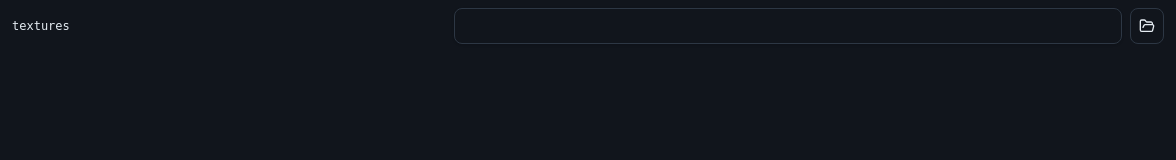
Test: FieldRow path picker › reflects a picked path in both the input and the config store
# Open the picker, then invoke the onSelect it registered (what PathPicker does on pick).
Click the button named "browse for textures": {"x": 1147, "y": 26} [1130,8,1164,44]
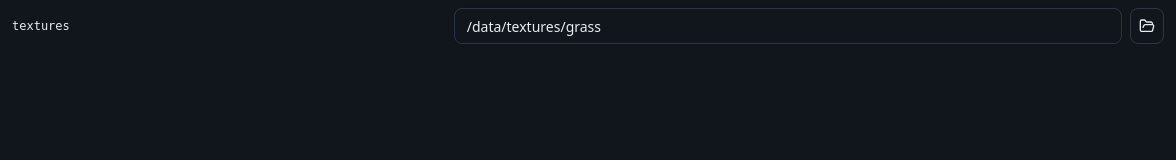
Expected: the field holds "/data/textures/grass", [454,8,1122,44]
